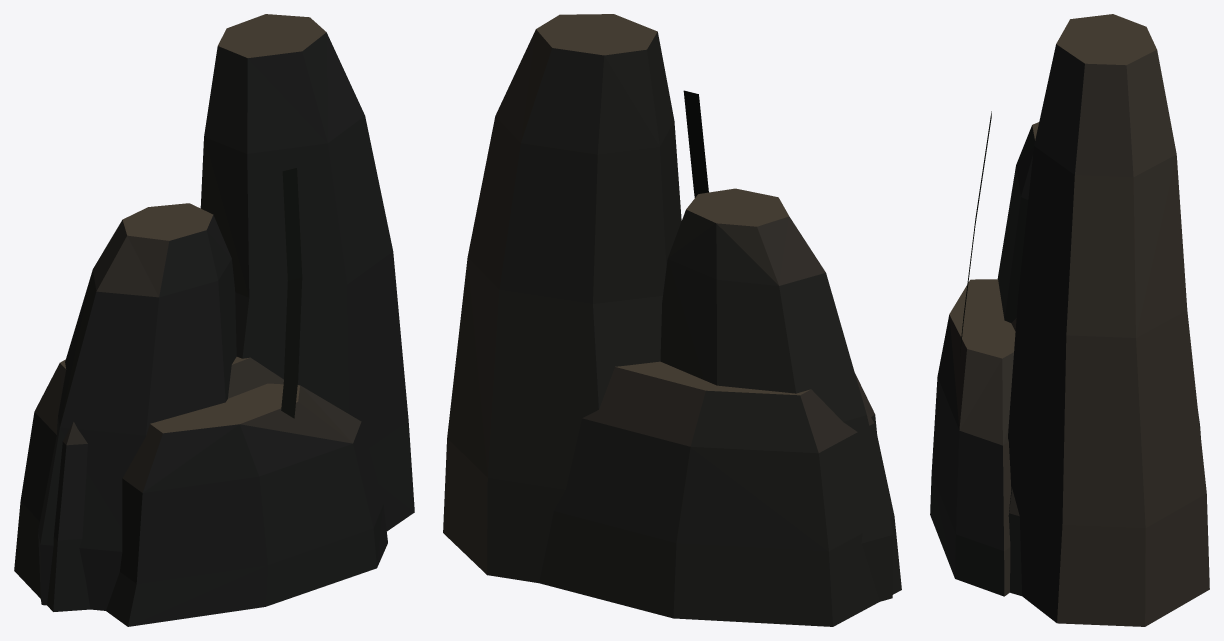
Rendered from verdant-cliff-buttress.glb.
3 views of the same model, side by side, from view 1: azimuth 30°, elevation 25°; view 2: azimuth 150°, elevation 25°; view 3: azimuth 270°, elevation 25° (orthographic). The views are drawn at different scales.
Visible parts, largest first — view 1: verdant-cliff-buttress; view 2: verdant-cliff-buttress; view 3: verdant-cliff-buttress.
Boxes of the visible parts, box(x1,y1,x2,y2) form: verdant-cliff-buttress: box(14, 14, 414, 626); verdant-cliff-buttress: box(443, 14, 901, 626); verdant-cliff-buttress: box(930, 14, 1209, 626).
Bounding box in the file's own units: 3.18 × 3.88 × 1.89.
Materials: 1 (1 with a texture image).
